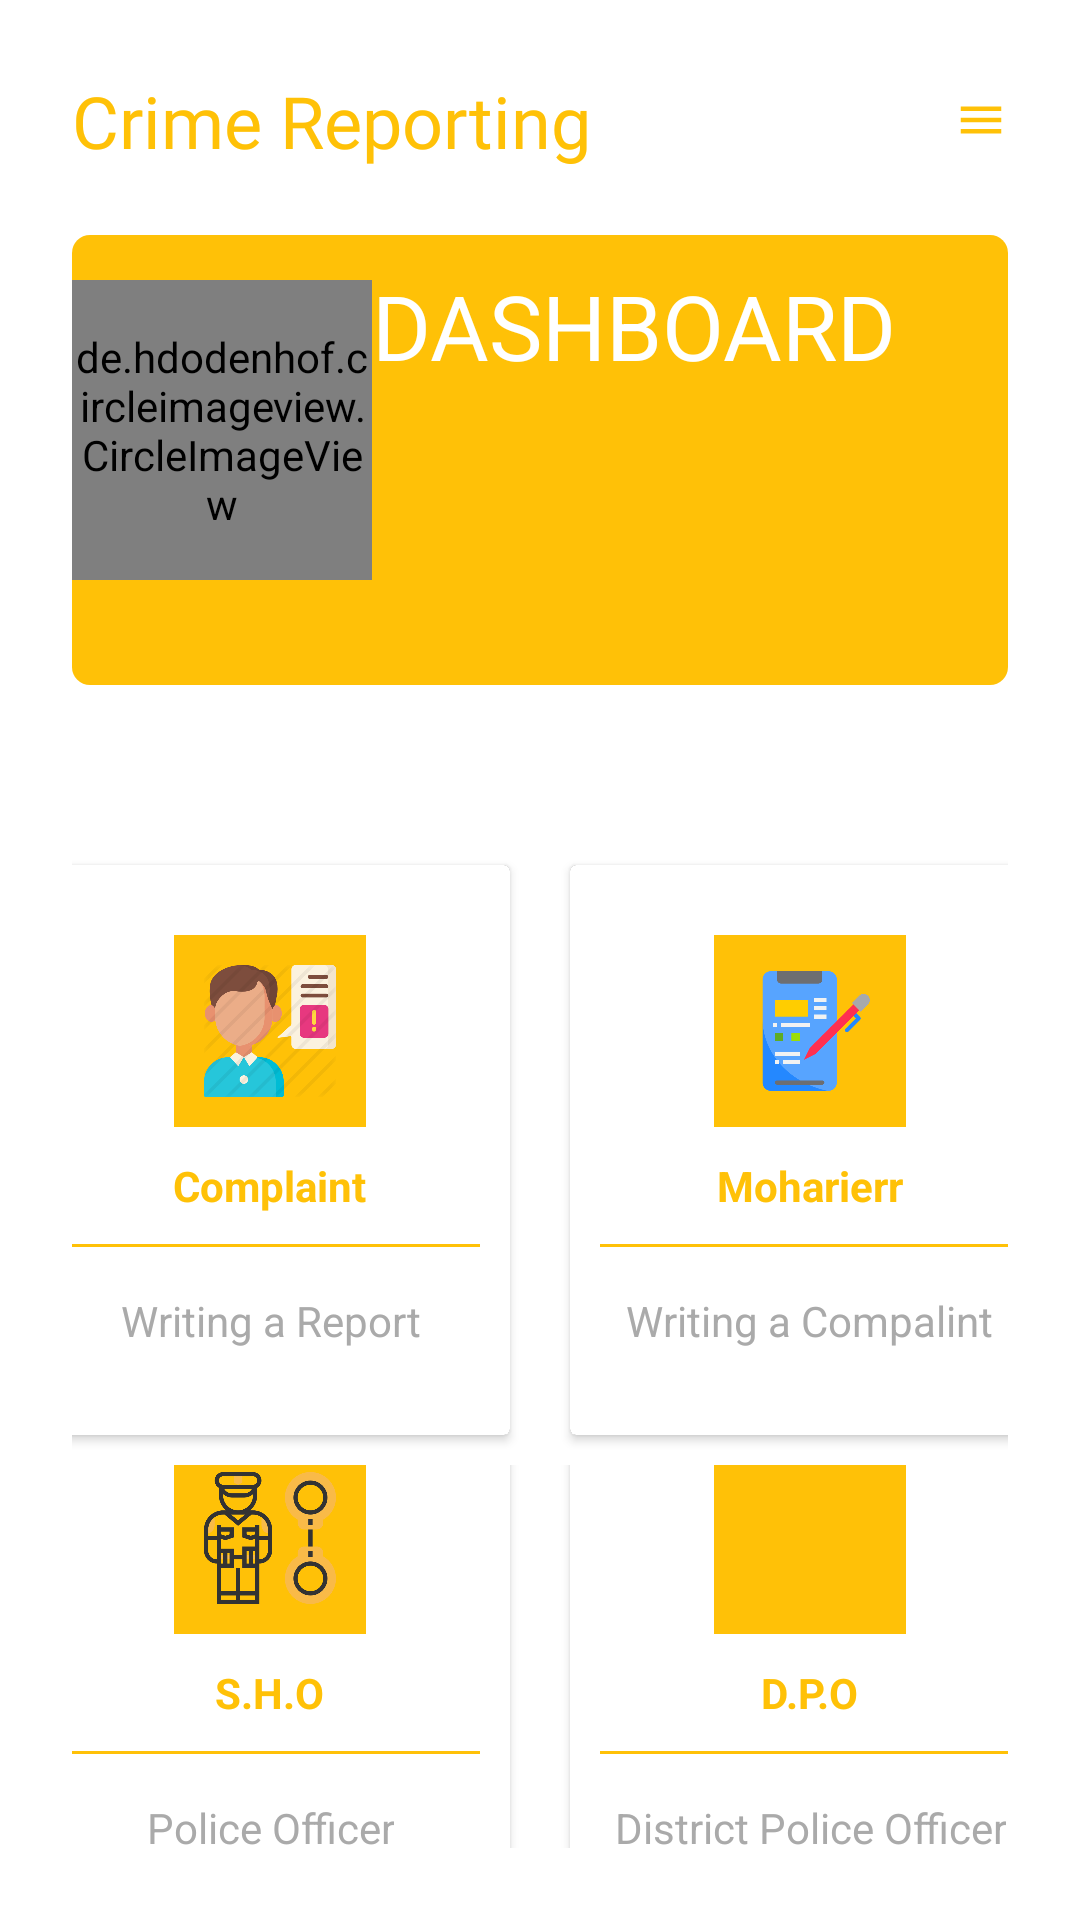

Point at icon controls on the screen. Image size 1080*1920, points as point (x, y).
menu: point (981, 120)
